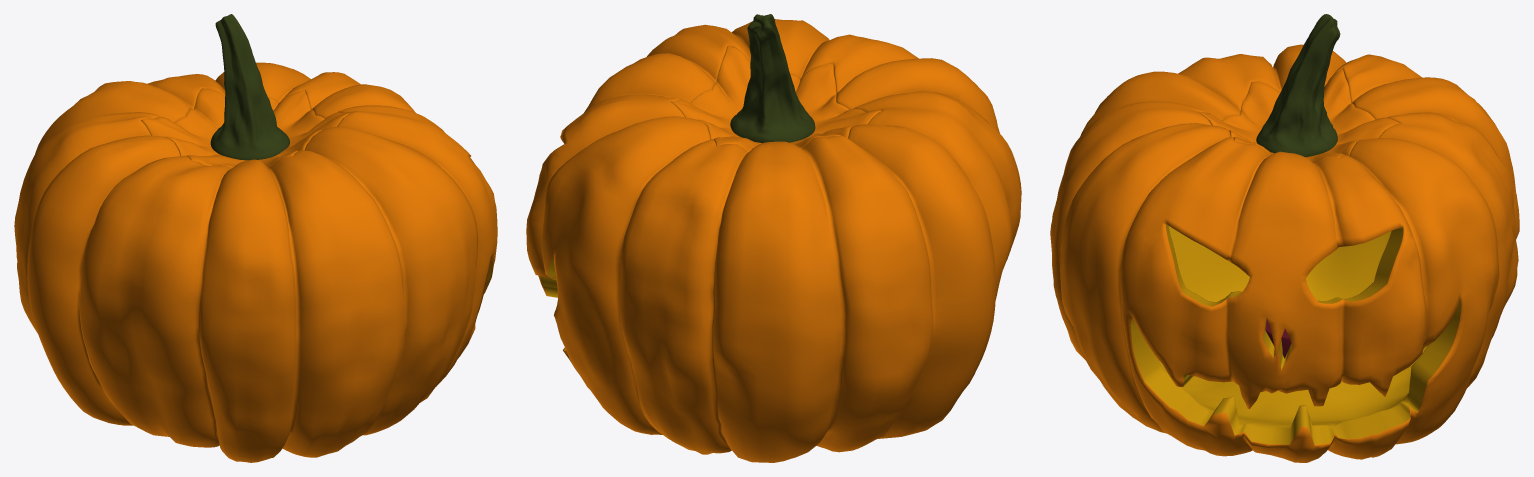
The model's file is pumpkin.gltf.
The picture shows the model from 3 angles, left to right: view 1: azimuth 30°, elevation 25°; view 2: azimuth 150°, elevation 25°; view 3: azimuth 270°, elevation 25°; orthographic projection. The views are drawn at different scales.
Parts seen in each view (by area): view 1: Plane.011, Plane.003; view 2: Plane.011, Plane.003; view 3: Plane.011, Plane.003.
Boxes of the visible parts, x1,y1,x2,y2 form: Plane.011: (14,62,497,462); Plane.003: (141,14,350,168); Plane.011: (526,19,1021,462); Plane.003: (670,14,881,152); Plane.011: (1050,44,1519,462); Plane.003: (1197,14,1399,165).
Size of the model in its own units: 0.2447 by 0.2203 by 0.2405.
